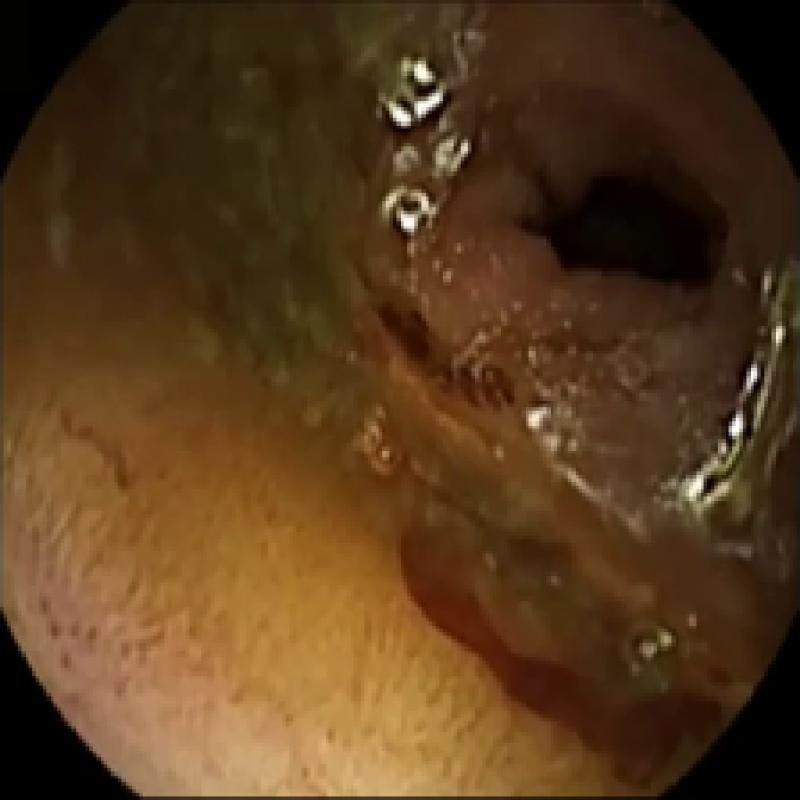bleeding: (403, 524, 711, 780), (386, 304, 511, 414)
